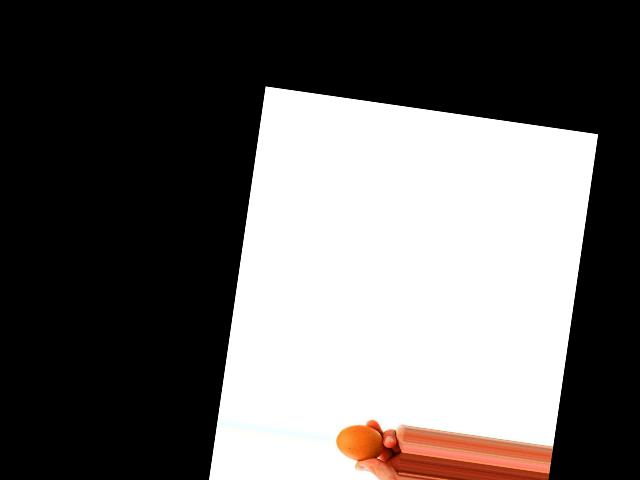egg: (334, 421, 385, 463)
